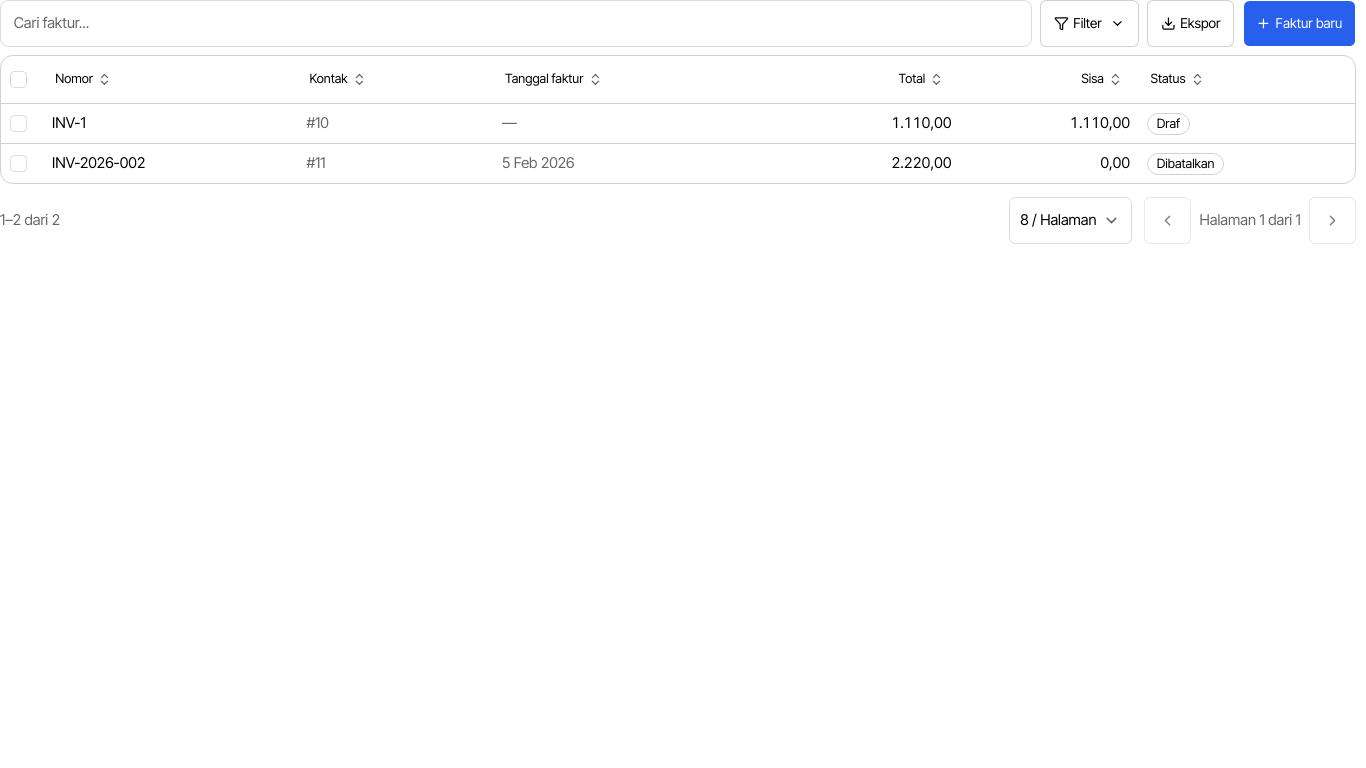
Test: InvoicesSection extra2 › keeps save disabled until contact and journal are set
This screenshot has width=1366, height=768.
Expected: the link "INV-2026-002" is shown, [52, 154, 145, 172]
Click the button "Faktur baru". click: (1299, 23)
box: [1243, 0, 1356, 47]
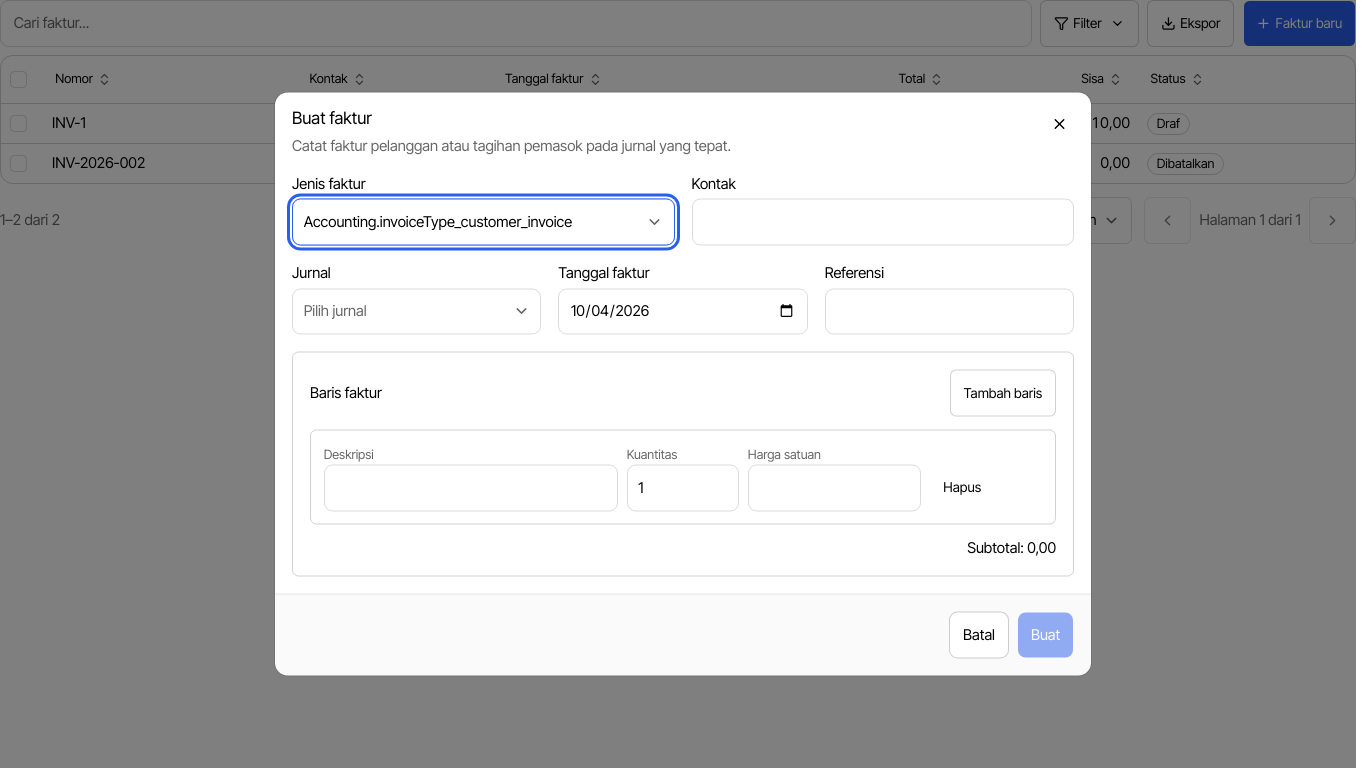
Expected: the button "Buat" is disabled, [1017, 612, 1074, 659]
